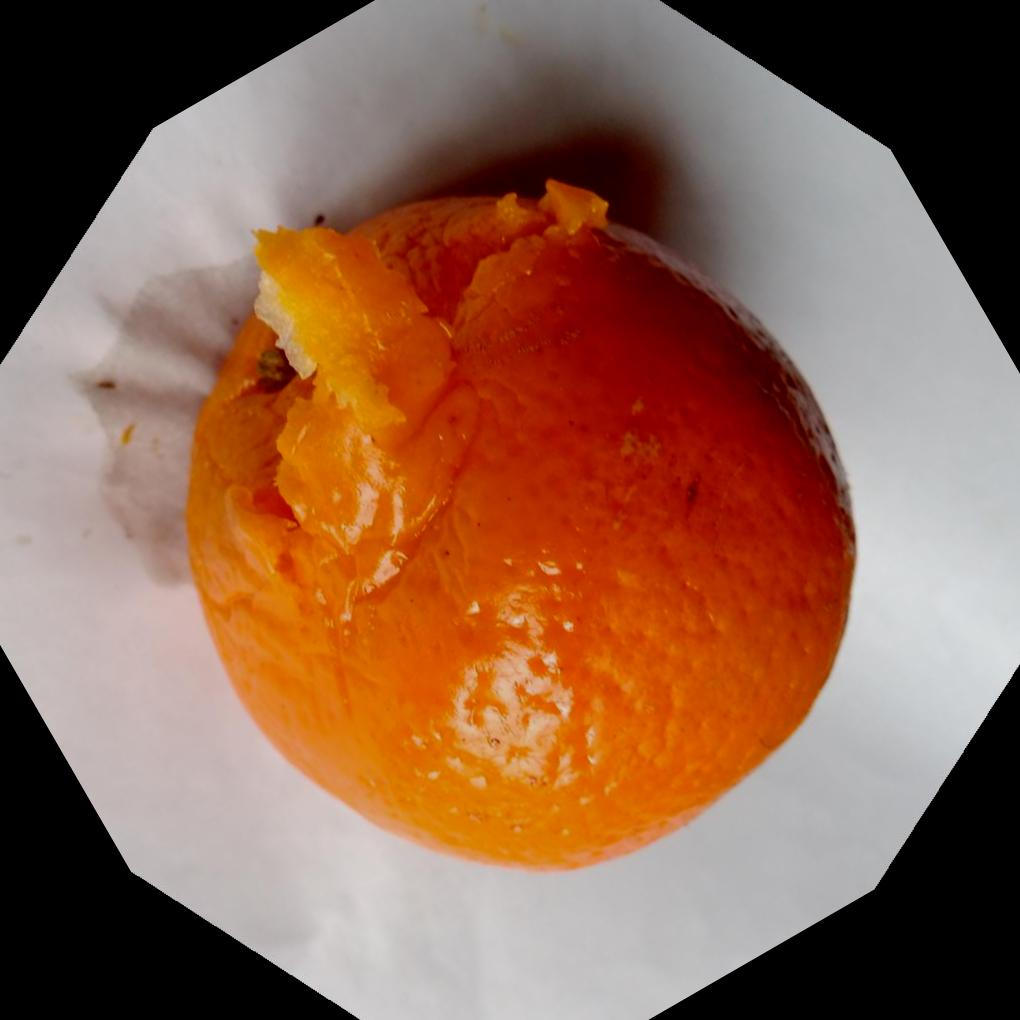FreshOrange: (179, 175, 856, 877)
